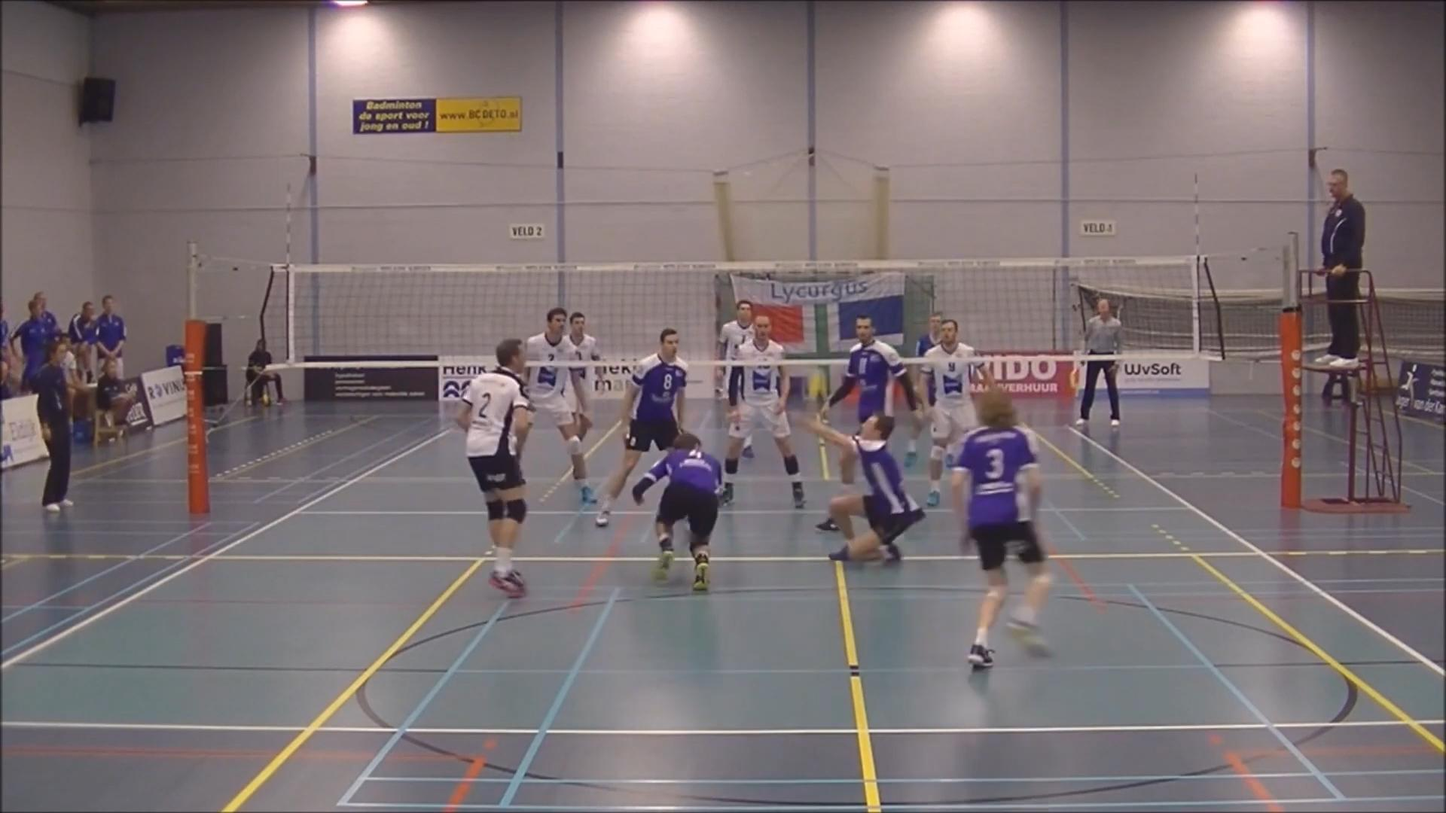difesa: (782, 402, 922, 577)
